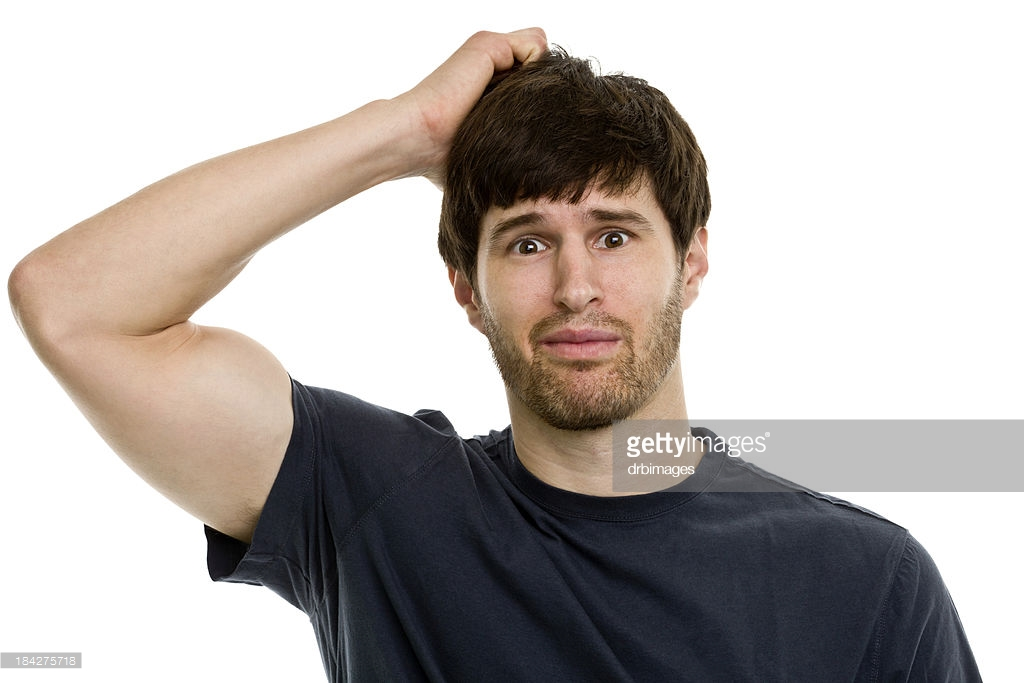confused: (477, 199, 685, 424)
